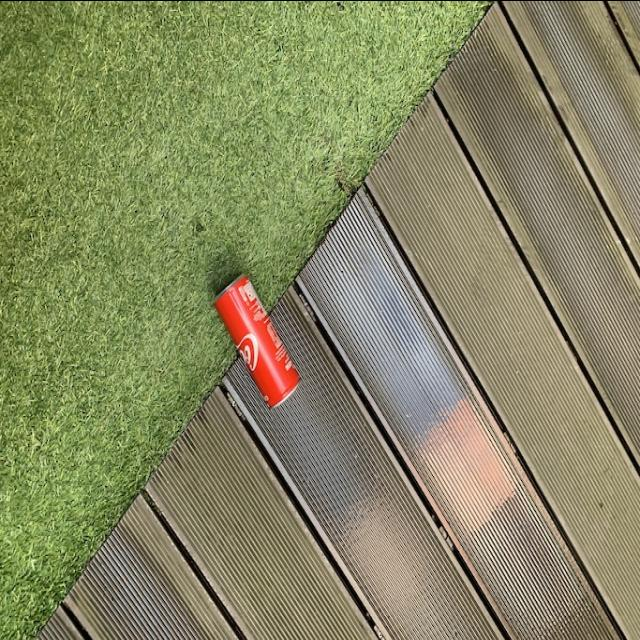Aluminum Can: (214, 268, 308, 412)
